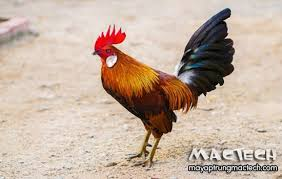Gà/Chicken: (82, 6, 246, 144)
